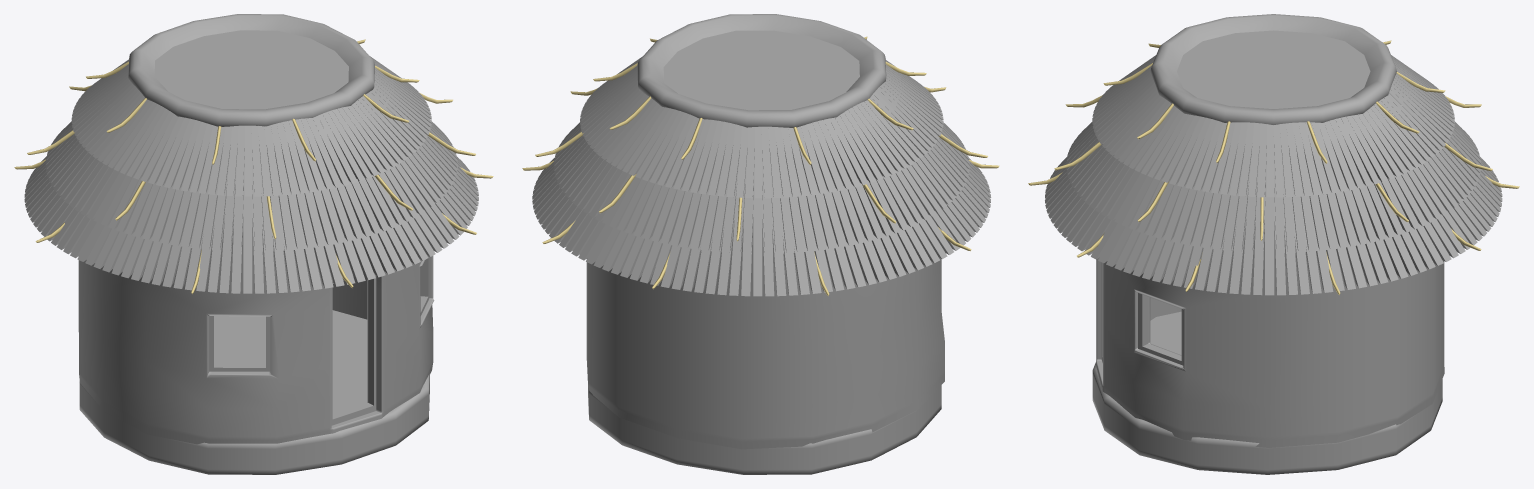
The model's file is Traditional Hut.fbx.
3 renders of one model, left to right at view 1: azimuth 30°, elevation 25°; view 2: azimuth 150°, elevation 25°; view 3: azimuth 270°, elevation 25°, orthographic.
Parts seen in each view (by area): view 1: pCube235, polySurface73; view 2: pCube235, polySurface73; view 3: pCube235, polySurface73.
Part boxes in pixels (x1,y1,x2,y2): pCube235: (24, 14, 478, 474); polySurface73: (14, 39, 493, 293); pCube235: (532, 14, 991, 474); polySurface73: (522, 36, 999, 295); pCube235: (1045, 14, 1502, 474); polySurface73: (1028, 40, 1519, 294).
Bounding box in the file's own units: 759 × 588 × 771.
